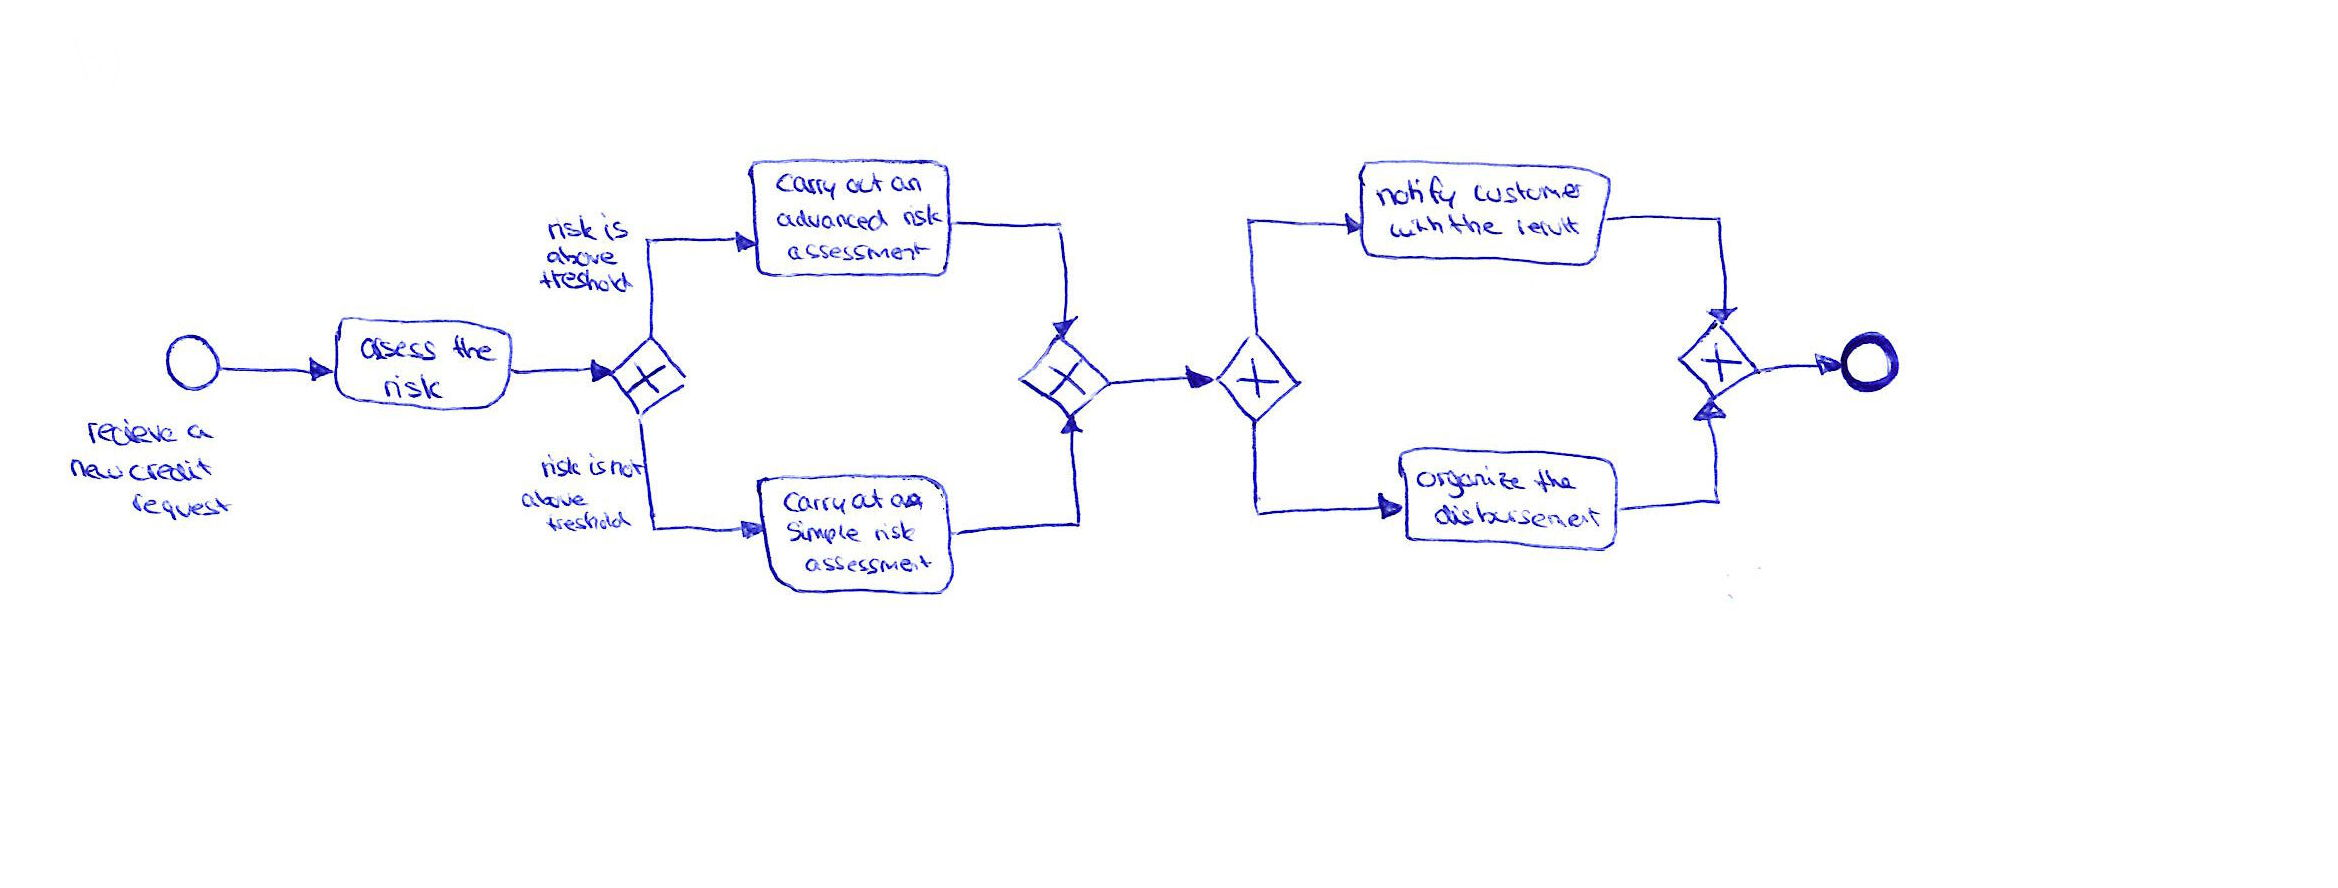Simple: (781, 516, 868, 550)
a: (886, 489, 927, 513), (180, 419, 221, 443)
above: (541, 241, 623, 271), (517, 486, 593, 513)
advanced: (769, 203, 893, 237)
an: (886, 171, 927, 197)
assess: (353, 332, 444, 368)
assessment: (780, 235, 936, 267), (801, 550, 936, 580)
at: (847, 483, 889, 514)
carry: (769, 168, 842, 206), (777, 486, 851, 520)
credit: (122, 453, 216, 486)
customer: (1467, 174, 1589, 209)
disbursement: (1428, 498, 1606, 533)
is: (593, 207, 634, 246), (584, 448, 610, 478)
new: (66, 454, 128, 486)
not: (605, 454, 650, 481)
notify: (1369, 171, 1461, 215)
organize: (1411, 460, 1531, 504)
out: (841, 168, 889, 198)
recieve: (79, 413, 182, 451)
request: (125, 487, 239, 526)
result: (1509, 212, 1586, 241)
risk: (379, 370, 450, 404), (541, 212, 602, 244), (535, 448, 584, 483), (898, 200, 945, 231), (869, 516, 918, 545)
the: (1442, 209, 1509, 241), (447, 331, 502, 367), (1528, 465, 1581, 498)
treshold: (534, 265, 640, 298), (541, 507, 635, 536)
with: (1384, 210, 1448, 243)
